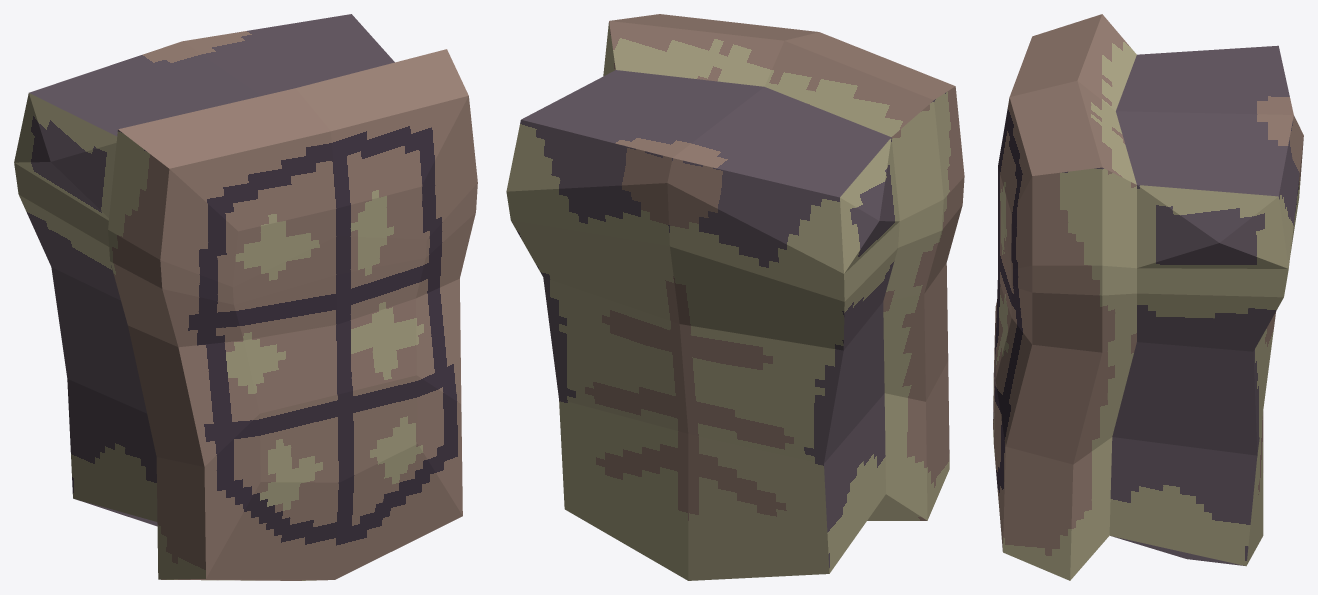
The model's file is turtle_body.glb.
3 views of the same model, side by side, from view 1: azimuth 30°, elevation 25°; view 2: azimuth 150°, elevation 25°; view 3: azimuth 270°, elevation 25° (orthographic). The views are drawn at different scales.
Parts seen in each view (by area): view 1: Cube.074; view 2: Cube.074; view 3: Cube.074.
Part boxes in pixels (x1=…): Cube.074: x1=14, y1=14, x2=477, y2=580; Cube.074: x1=506, y1=14, x2=964, y2=580; Cube.074: x1=993, y1=14, x2=1303, y2=580.
Size of the model in its own units: 3.49 by 4.68 by 2.82.
Materials: 1 (1 with a texture image).
